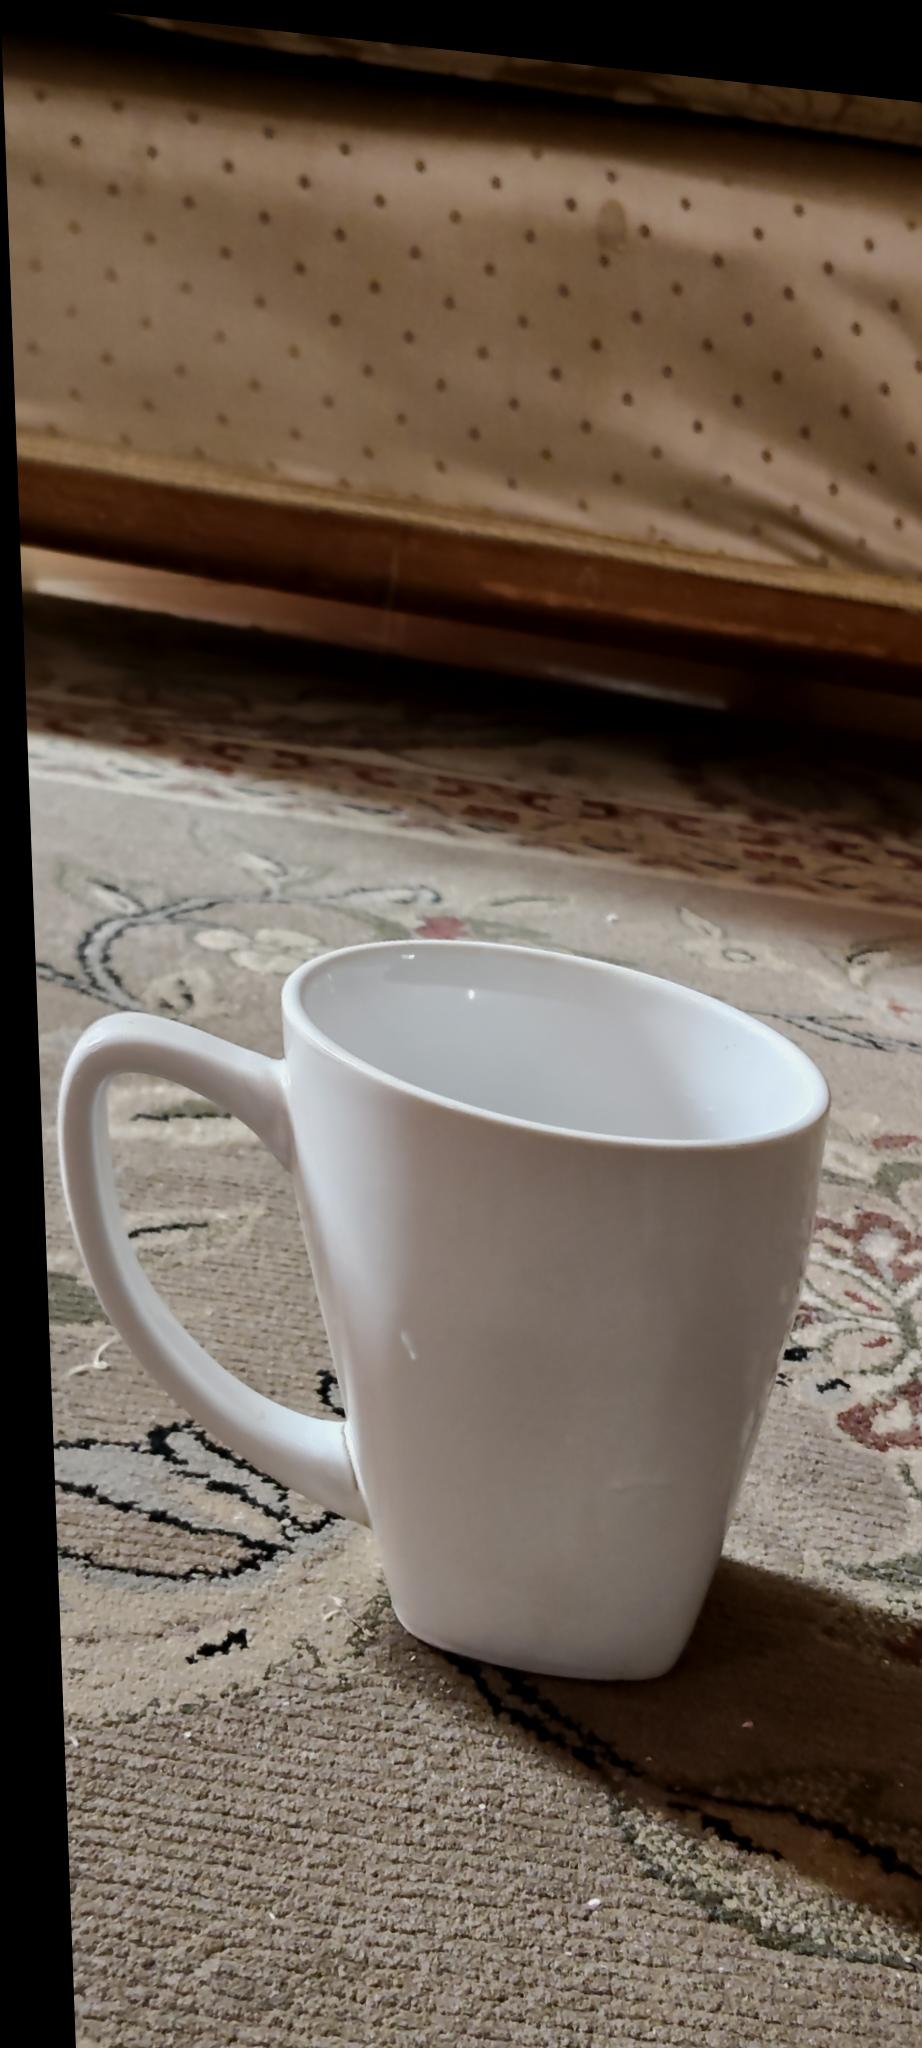Mug: (46, 887, 860, 1711)
